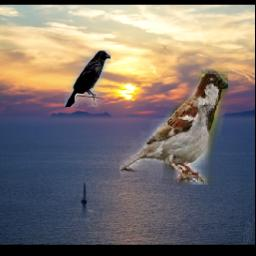Crow: (65, 51, 112, 108)
Sparrow: (121, 68, 229, 186)
